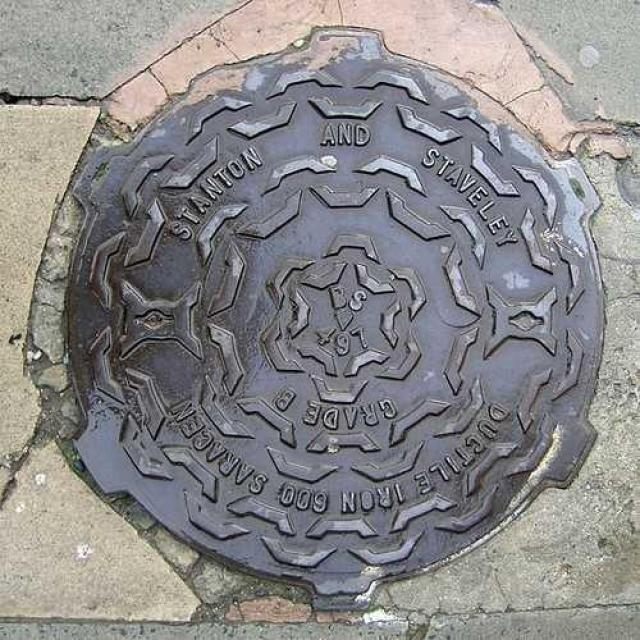manhole: (23, 27, 608, 616)
